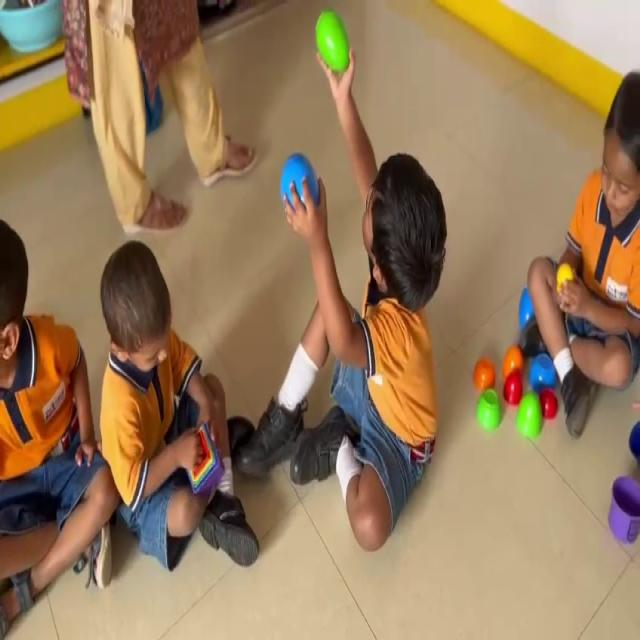child: (261, 23, 438, 592), (481, 36, 629, 515), (89, 237, 241, 594)
